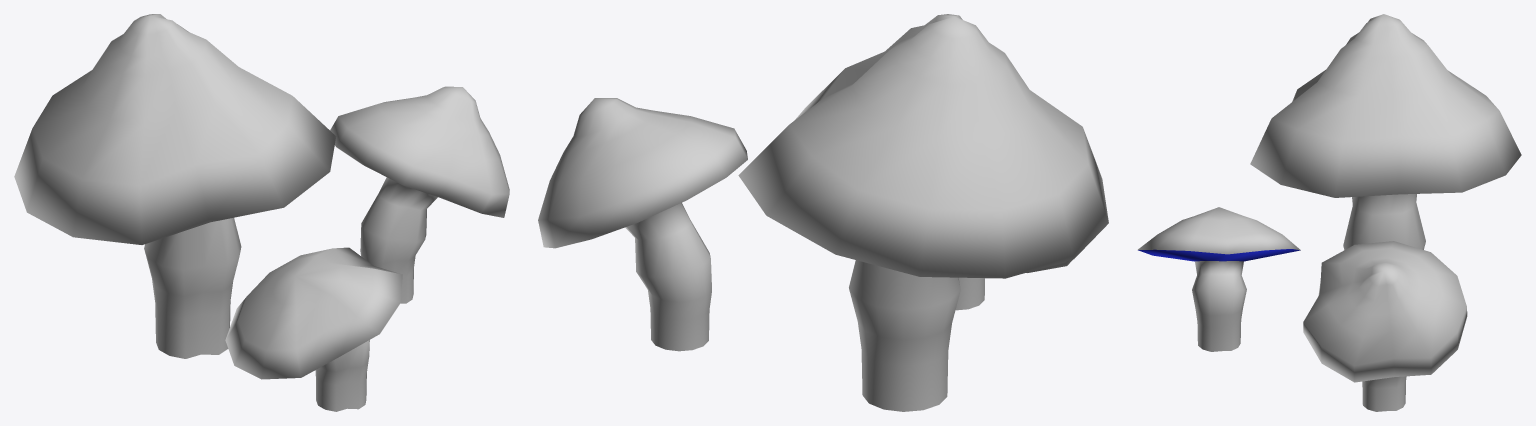
The model's file is Mushroom2.obj.
3 views of the same model, side by side, from view 1: azimuth 30°, elevation 25°; view 2: azimuth 150°, elevation 25°; view 3: azimuth 270°, elevation 25° (orthographic). The views are drawn at different scales.
Parts seen in each view (by area): view 1: Cylinder.006; view 2: Cylinder.006; view 3: Cylinder.006.
Part boxes in pixels (x1,y1,x2,y2): Cylinder.006: (14, 14, 509, 411); Cylinder.006: (538, 14, 1108, 411); Cylinder.006: (1138, 14, 1521, 411).
Size of the model in its own units: 14.15 by 10.03 by 12.07.
